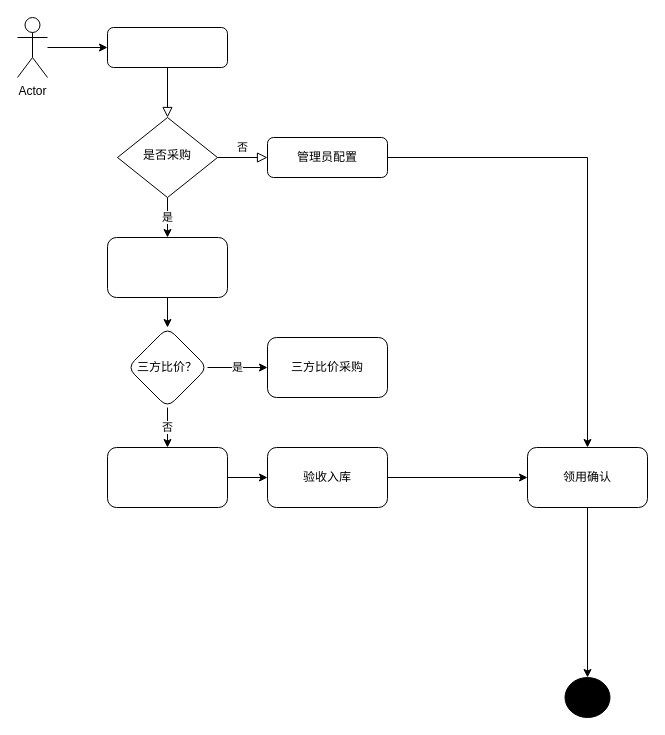
This 665x735 diagram has some shape labels left out. The shapes that lost their labels are listed below. From the top down, each one's centre as x and y in pixels, then its label:
the point at 167,47: 固资申请
the point at 167,267: 购买
the point at 167,477: 非比价采购
